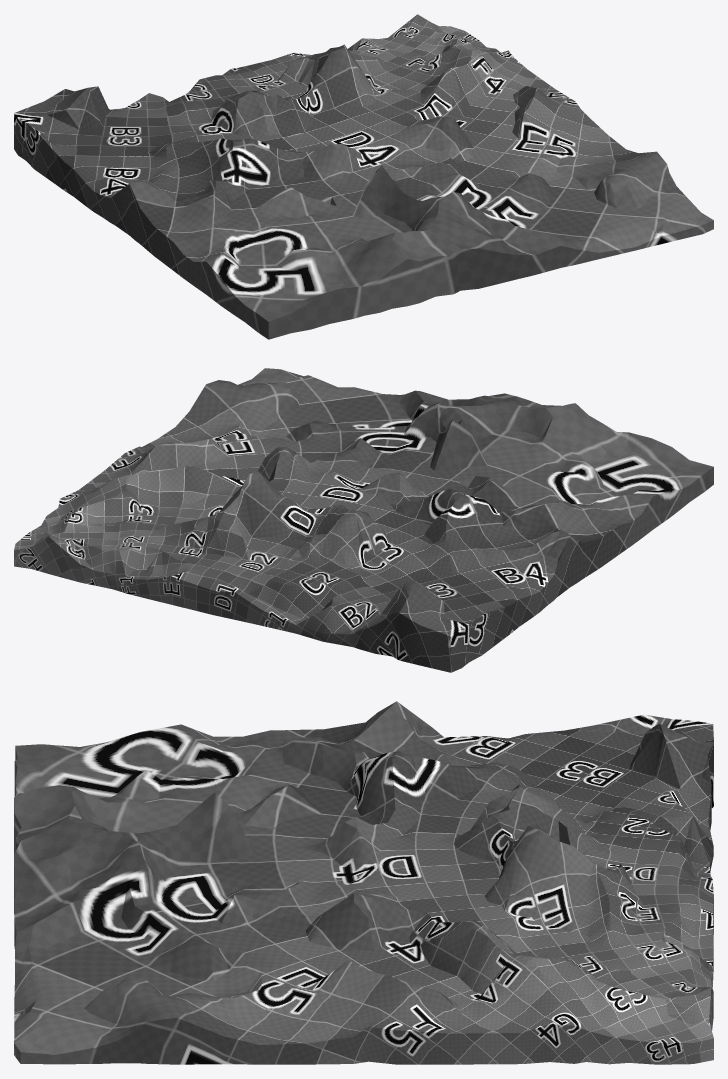
File: Terrain7.fbx
3 renders of one model, top to bottom at view 1: azimuth 30°, elevation 25°; view 2: azimuth 150°, elevation 25°; view 3: azimuth 270°, elevation 25°, orthographic. The views are drawn at different scales.
Visible parts, largest first — view 1: terrain_o; view 2: terrain_o; view 3: terrain_o.
Part boxes in pixels (x1,y1,x2,y2): terrain_o: (14, 14, 713, 339); terrain_o: (14, 368, 713, 672); terrain_o: (14, 701, 713, 1064).
Bounding box in the file's own units: 4813 × 898 × 4813.
